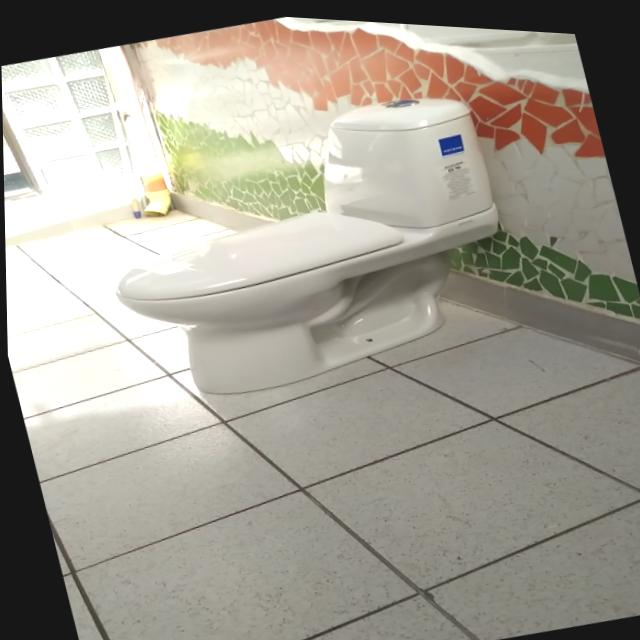toilet: (78, 62, 532, 426)
